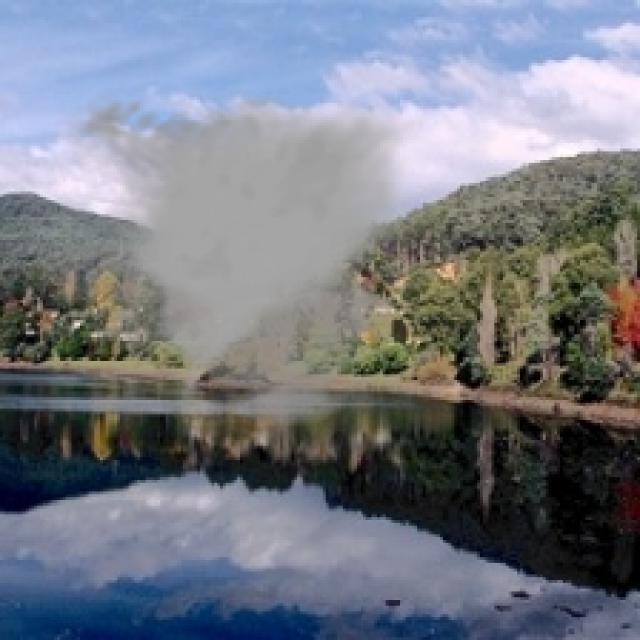smoke: (37, 89, 423, 432)
